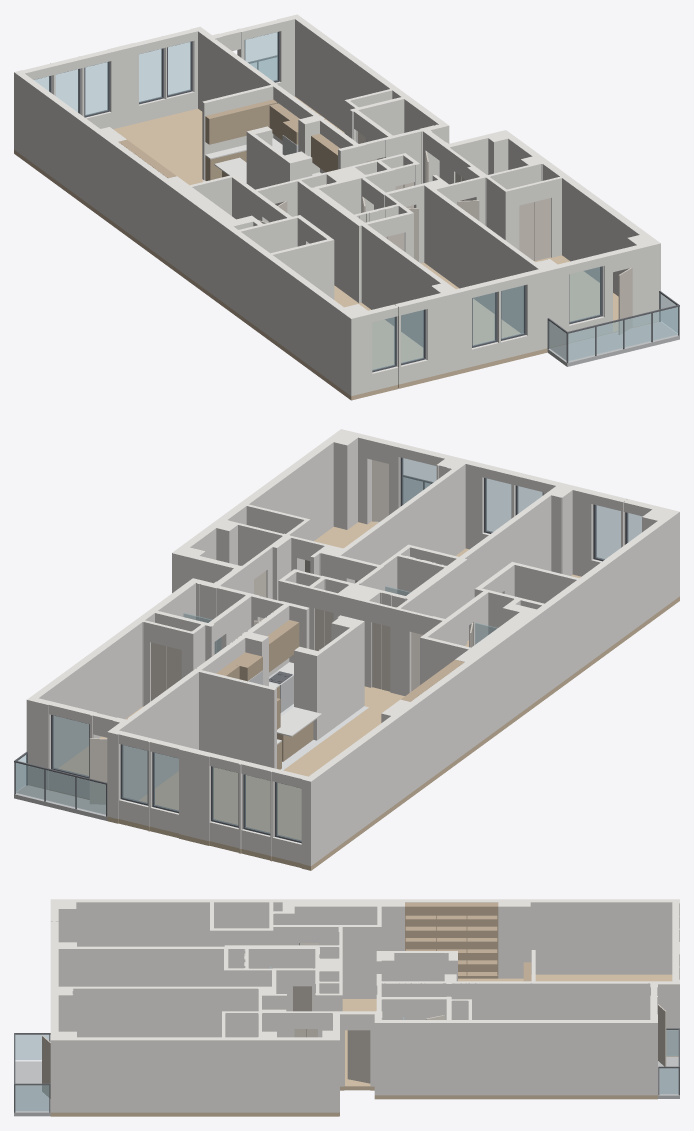
The model's file is apartment_exact.glb.
3 renders of one model, top to bottom at view 1: azimuth 30°, elevation 25°; view 2: azimuth 150°, elevation 25°; view 3: azimuth 270°, elevation 25°, orthographic. The views are drawn at different scales.
Parts seen in each view (by area): view 1: Walls_Main, Windows_Glass, Floor_Wood, Fixtures_Cabinets, Balcony_Glass, Doors, Floor_Balcony, Window_Frames, Balcony_Railings, Fixtures_Counters; view 2: Walls_Main, Windows_Glass, Floor_Wood, Doors, Balcony_Glass, Fixtures_Cabinets, Window_Frames, Floor_Balcony, Fixtures_Counters, Balcony_Railings, Floor_Tile; view 3: Walls_Main, Fixtures_DiningShelf, Floor_Wood, Doors, Balcony_Glass, Floor_Balcony, Balcony_Railings.
Part boxes in pixels (x1,y1,x2,y2): Walls_Main: (14, 14, 660, 396); Windows_Glass: (34, 32, 600, 370); Floor_Wood: (14, 96, 658, 400); Fixtures_Cabinets: (205, 99, 339, 180); Balcony_Glass: (250, 57, 678, 360); Doors: (258, 132, 632, 334); Floor_Balcony: (547, 321, 679, 366); Window_Frames: (37, 31, 602, 372); Balcony_Railings: (248, 55, 679, 362); Fixtures_Counters: (205, 138, 321, 182); Walls_Main: (26, 429, 679, 865); Windows_Glass: (53, 458, 642, 840); Floor_Wood: (29, 521, 679, 870); Doors: (89, 460, 473, 804); Balcony_Glass: (15, 477, 430, 814); Fixtures_Cabinets: (216, 620, 313, 769); Window_Frames: (51, 457, 628, 843); Floor_Balcony: (14, 521, 379, 820); Fixtures_Counters: (269, 662, 321, 744); Balcony_Railings: (14, 475, 433, 816); Floor_Tile: (280, 704, 368, 770); Walls_Main: (50, 899, 679, 1112); Fixtures_DiningShelf: (405, 902, 498, 978); Floor_Wood: (50, 974, 678, 1116); Doors: (42, 943, 666, 1098); Balcony_Glass: (15, 1030, 678, 1111); Floor_Balcony: (14, 1056, 679, 1116); Balcony_Railings: (14, 1028, 679, 1112).
Size of the model in its own units: 11.51 by 2.9 by 22.97.
